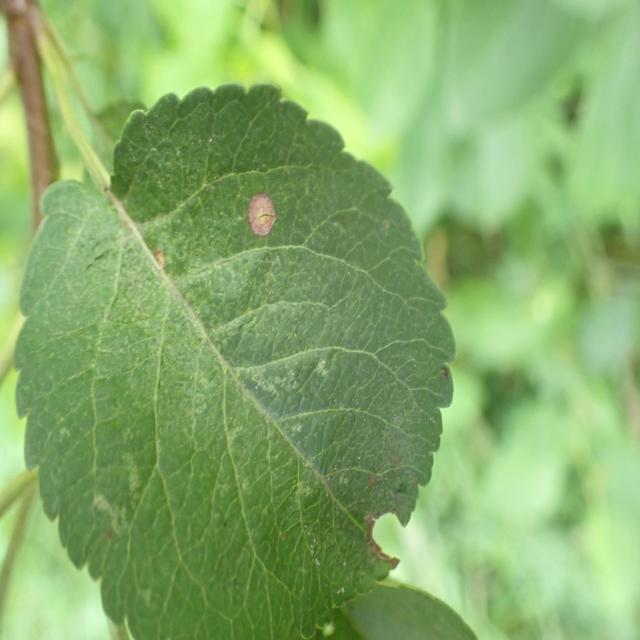Black Rot: (359, 502, 414, 595), (245, 187, 283, 266)
